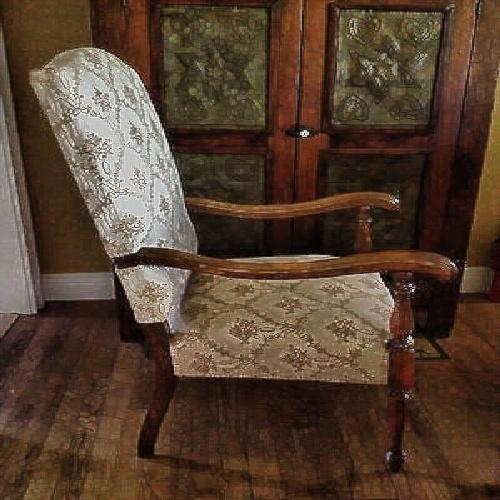chair: (40, 40, 446, 446)
